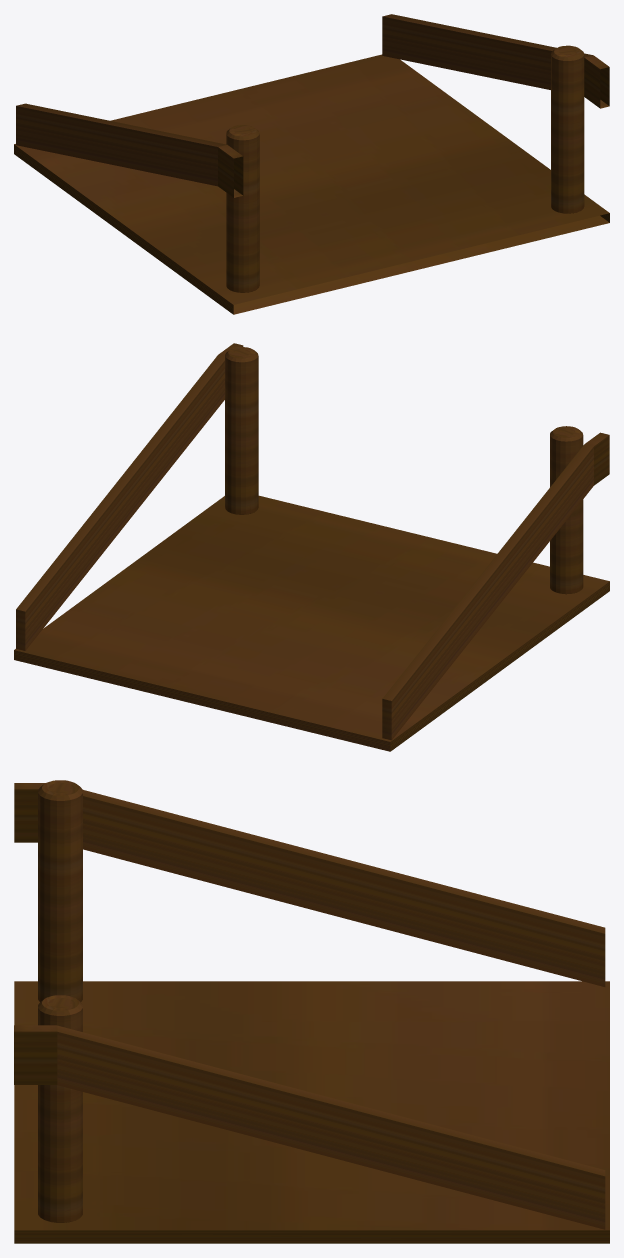
File: Bridge_PartA.FBX
3 renders of one model, top to bottom at view 1: azimuth 30°, elevation 25°; view 2: azimuth 150°, elevation 25°; view 3: azimuth 270°, elevation 25°, orthographic. The views are drawn at different scales.
Visible parts, largest first — view 1: SplitAchter001; view 2: SplitAchter001; view 3: SplitAchter001.
Part boxes in pixels (x1,y1,x2,y2): SplitAchter001: [14, 14, 609, 314]; SplitAchter001: [14, 343, 609, 751]; SplitAchter001: [14, 780, 609, 1243].
Size of the model in its own units: 5 by 2.1 by 5.05.
Materials: 1 (1 with a texture image).
